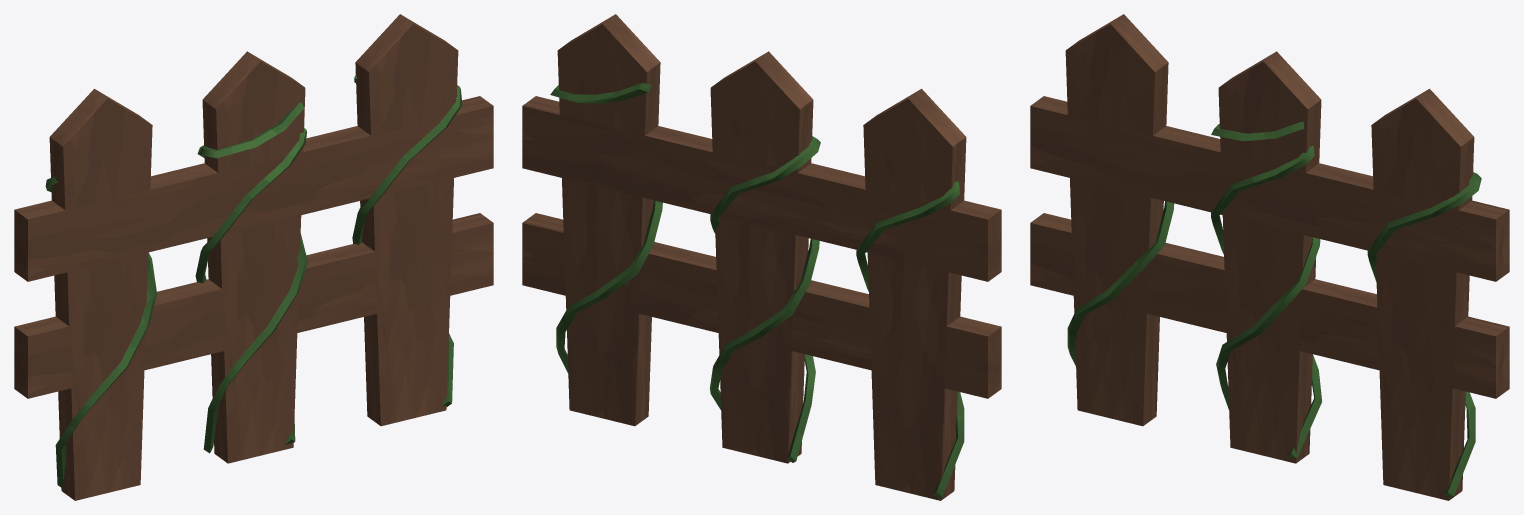
File: kinosaku.fbx
3 views of the same model, side by side, from view 1: azimuth 30°, elevation 25°; view 2: azimuth 150°, elevation 25°; view 3: azimuth 330°, elevation 25° (orthographic).
Parts seen in each view (by area): view 1: pCylinder7; view 2: pCylinder7; view 3: pCylinder7.
Boxes of the visible parts, x1,y1,x2,y2 form: pCylinder7: (14,14,493,500); pCylinder7: (522,14,1001,500); pCylinder7: (1030,14,1509,500).
Size of the model in its own units: 15.23 by 12.33 by 2.08.
Materials: 2 (2 with a texture image).
